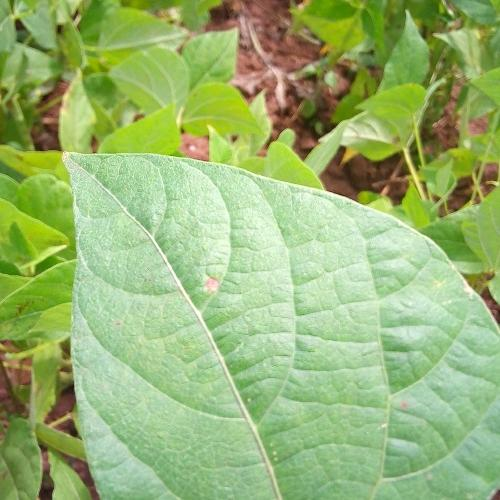hawar: (335, 391, 422, 448), (192, 255, 236, 305)
